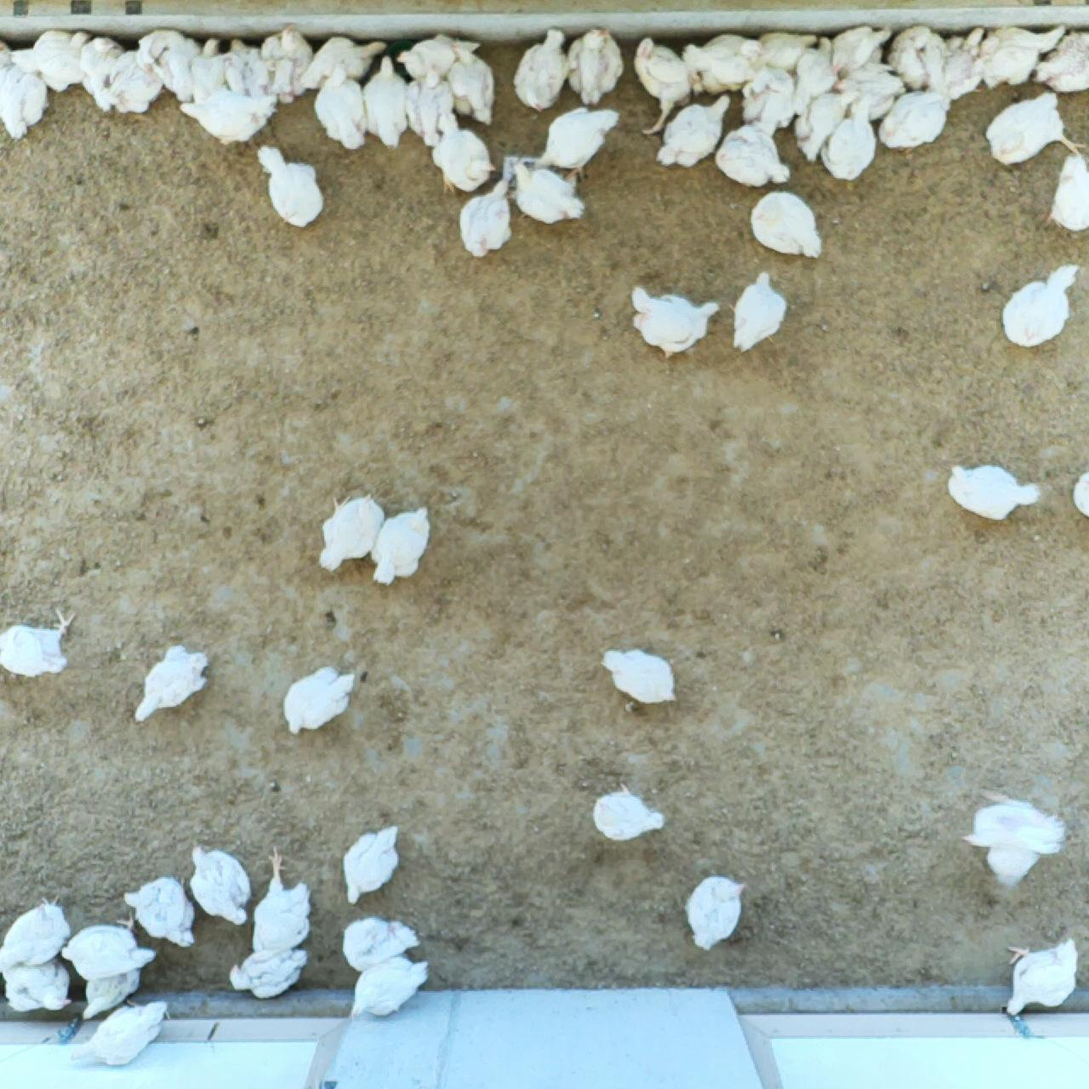chicken: (960, 783, 1074, 892), (995, 257, 1087, 350), (995, 933, 1089, 1022), (247, 842, 314, 963), (978, 86, 1084, 161), (68, 1001, 170, 1074), (626, 284, 724, 359), (630, 32, 698, 139), (530, 102, 624, 179), (973, 20, 1066, 95), (122, 869, 202, 952), (249, 143, 329, 226), (133, 640, 212, 723), (655, 88, 733, 172), (743, 186, 828, 262), (0, 887, 73, 975), (176, 85, 279, 147), (583, 774, 670, 847), (941, 461, 1043, 523), (345, 954, 436, 1023), (600, 643, 687, 714), (315, 484, 386, 571), (431, 109, 502, 196), (277, 663, 360, 737), (0, 605, 73, 686), (821, 92, 883, 187), (14, 24, 98, 94), (454, 172, 522, 258), (364, 502, 431, 589), (678, 874, 749, 955), (398, 65, 464, 151), (300, 33, 388, 97), (187, 844, 254, 928), (223, 940, 310, 1004), (342, 819, 403, 910), (793, 81, 863, 159), (388, 27, 471, 92), (58, 916, 156, 971), (690, 29, 770, 96), (511, 26, 571, 115), (876, 82, 952, 152), (715, 118, 792, 187), (313, 63, 369, 157), (886, 23, 958, 95), (727, 271, 791, 352), (445, 39, 501, 131), (360, 52, 414, 147), (565, 21, 623, 109), (509, 157, 584, 224), (256, 19, 313, 107), (339, 917, 418, 978), (1024, 29, 1089, 103), (131, 28, 193, 105), (0, 949, 73, 1013), (736, 62, 802, 132), (787, 33, 839, 120), (827, 20, 896, 84), (0, 56, 51, 142), (76, 33, 128, 116), (935, 20, 985, 106), (182, 32, 232, 118), (830, 53, 899, 115), (105, 44, 160, 121), (1038, 151, 1089, 234), (220, 36, 279, 107), (81, 961, 144, 1022), (750, 27, 820, 75), (1069, 462, 1089, 519)
